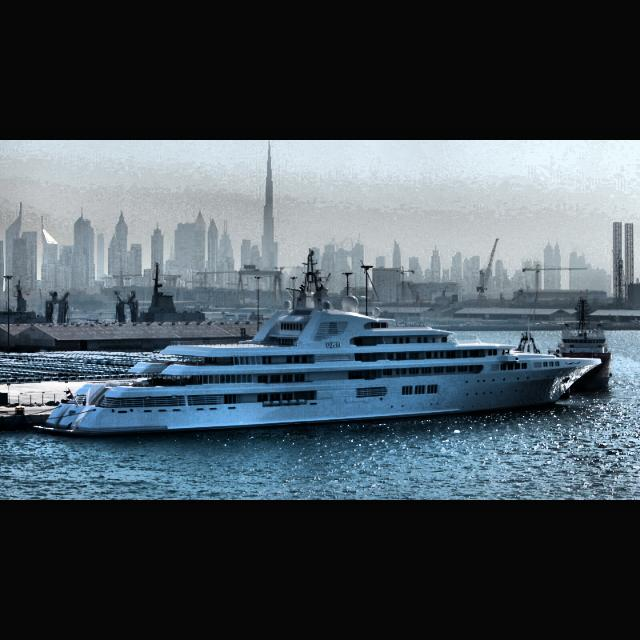yacht: (32, 247, 602, 438)
